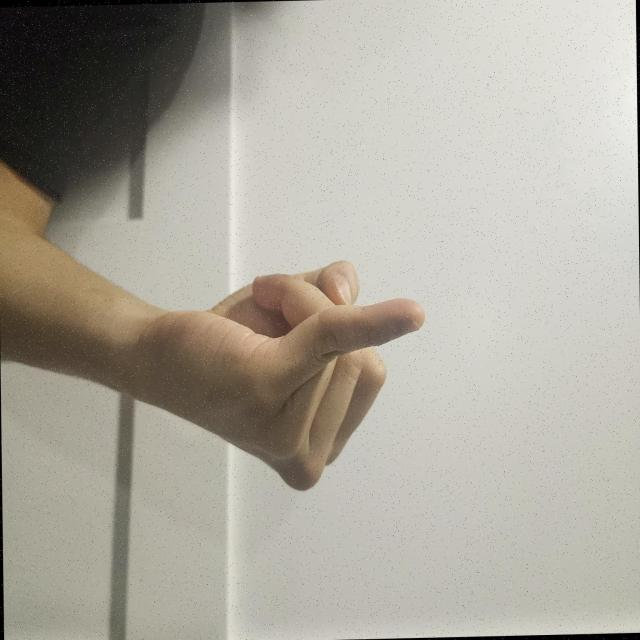I: (348, 275, 538, 639)
